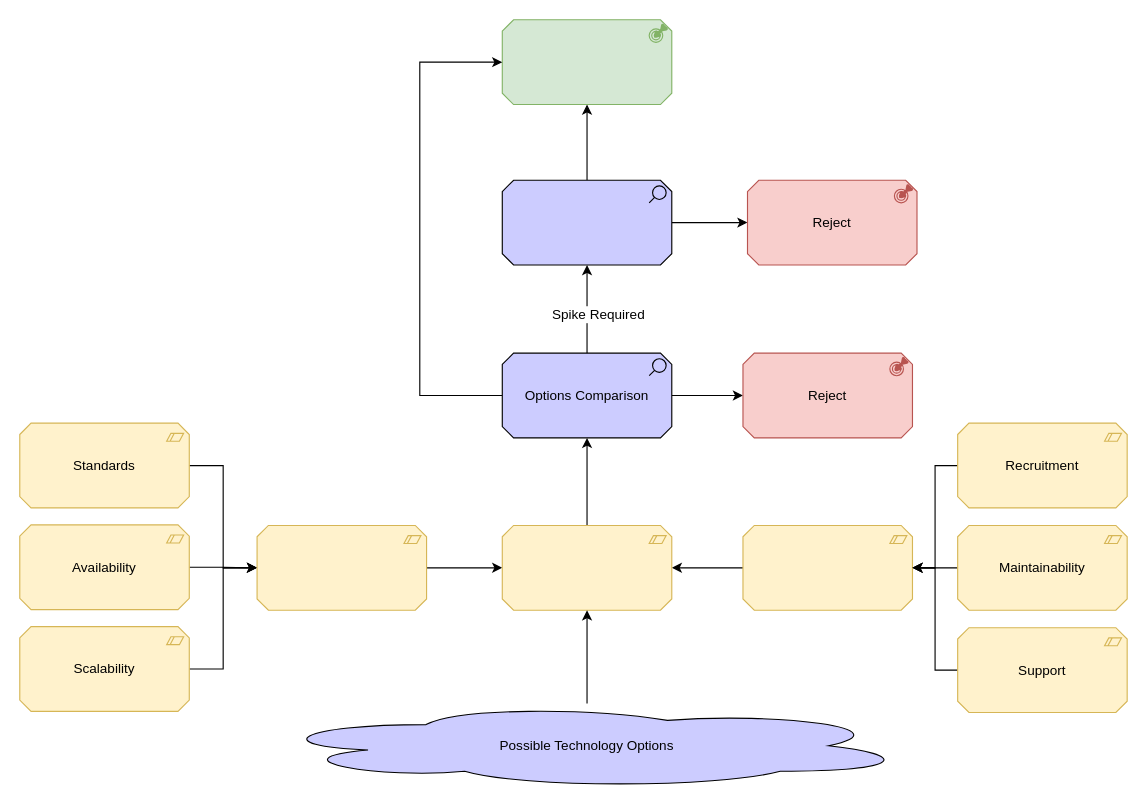
This 1147x808 diagram has some shape labels left out. Here are the shapes that lost their labels. From the top down, the centre of each, then its label:
At point 586,62: "Technology Selection".
At point 586,222: "Run Spike".
At point 341,567: "Hard Constraint".
At point 586,567: "Constraints".
At point 827,567: "Soft Constraint".
